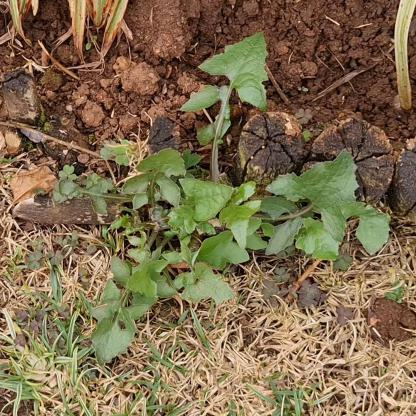Weeds: (52, 30, 392, 366)
